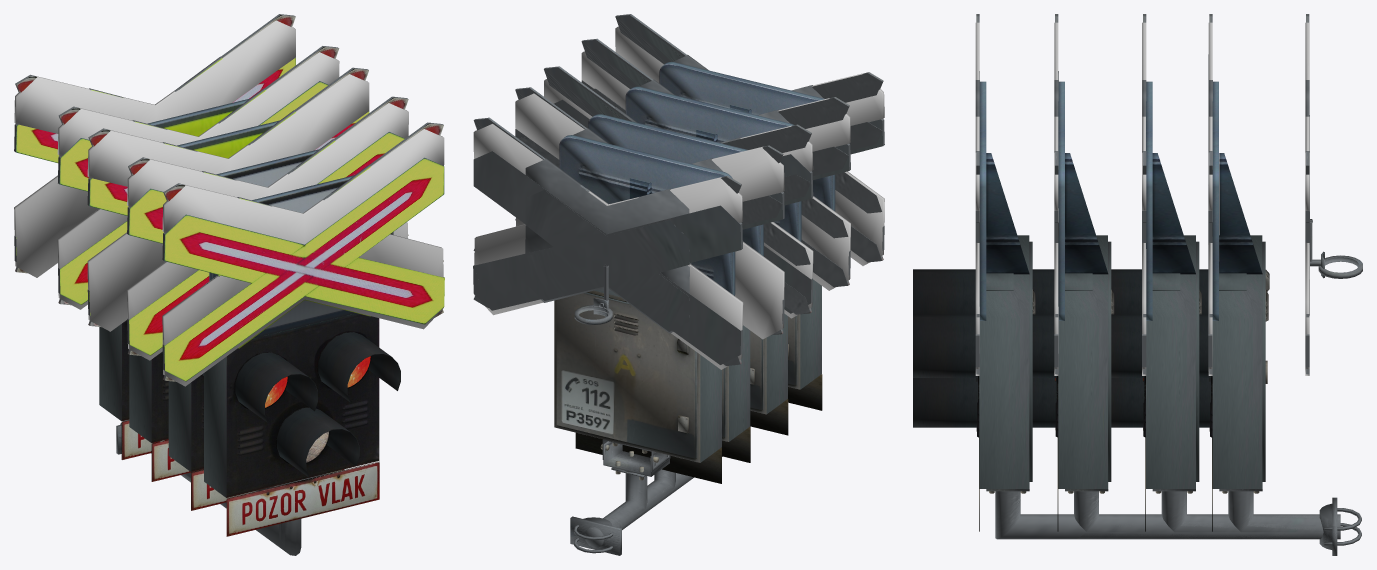
File: azd71_vyst_zav.obj
3 views of the same model, side by side, from view 1: azimuth 30°, elevation 25°; view 2: azimuth 150°, elevation 25°; view 3: azimuth 270°, elevation 25° (orthographic). The views are drawn at different scales.
Visible parts, largest first — view 1: kriz_1k_refl_100_velky, kriz_xk_refl_stozar_velky, kriz_xk_refl_100_velky, azd71_predek_100, kriz_xk_refl_50_velky, kriz_xk_refl_75_velky, kriz_xk_refl_30_velky, azd71_stinidlo_100, azd71_pozor_vlak_100, kriz_1k_refl_75_velky, kriz_1k_refl_30_velky, azd71_stinidlo_poz_100 (+17 smaller); view 2: azd71_skrin_30, kriz_1k_refl_stozar_maly, kriz_1k_refl_stozar_velky, kriz_xk_refl_30_velky, kriz_xk_refl_stozar_velky, kriz_sk_30, kriz_xk_refl_stozar_maly, kriz_sk_75, kriz_xk_back_50_velky, kriz_sk_100, kriz_xk_refl_75_velky, kriz_xk_back_75_velky (+20 smaller); view 3: azd71_skrin_30, azd71_skrin_50, azd71_skrin_75, azd71_skrin_100, azd71_stinidlo_100, azd71_sloup_75, kriz_sk_100, kriz_sk_75, kriz_sk_refl_30, kriz_sk_refl_50, azd71_sloup_100, azd71_stinidlo_50 (+15 smaller).
Part boxes in pixels (x1=…): kriz_1k_refl_100_velky: x1=162, y1=157, x2=444, y2=381; kriz_xk_refl_stozar_velky: x1=14, y1=20, x2=295, y2=277; kriz_xk_refl_100_velky: x1=162, y1=129, x2=444, y2=386; azd71_predek_100: x1=226, y1=313, x2=379, y2=497; kriz_xk_refl_50_velky: x1=87, y1=74, x2=369, y2=331; kriz_xk_refl_75_velky: x1=127, y1=103, x2=408, y2=360; kriz_xk_refl_30_velky: x1=57, y1=52, x2=339, y2=309; azd71_stinidlo_100: x1=235, y1=332, x2=400, y2=422; azd71_pozor_vlak_100: x1=226, y1=461, x2=379, y2=536; kriz_1k_refl_75_velky: x1=127, y1=132, x2=404, y2=355; kriz_1k_refl_30_velky: x1=58, y1=81, x2=328, y2=304; azd71_stinidlo_poz_100: x1=276, y1=407, x2=359, y2=477; azd71_skrin_30: x1=554, y1=288, x2=721, y2=483; kriz_1k_refl_stozar_maly: x1=525, y1=190, x2=691, y2=331; kriz_1k_refl_stozar_velky: x1=473, y1=151, x2=742, y2=364; kriz_xk_refl_30_velky: x1=515, y1=93, x2=784, y2=339; kriz_xk_refl_stozar_velky: x1=473, y1=124, x2=743, y2=369; kriz_sk_30: x1=559, y1=137, x2=735, y2=295; kriz_xk_refl_stozar_maly: x1=525, y1=158, x2=689, y2=333; kriz_sk_75: x1=625, y1=86, x2=801, y2=241; kriz_xk_back_50_velky: x1=544, y1=66, x2=811, y2=314; kriz_sk_100: x1=659, y1=61, x2=835, y2=211; kriz_xk_refl_75_velky: x1=581, y1=51, x2=850, y2=290; kriz_xk_back_75_velky: x1=581, y1=38, x2=849, y2=285; azd71_skrin_30: x1=1212, y1=235, x2=1269, y2=531; azd71_skrin_50: x1=1145, y1=235, x2=1201, y2=531; azd71_skrin_75: x1=1057, y1=235, x2=1114, y2=531; azd71_skrin_100: x1=979, y1=235, x2=1035, y2=531; azd71_stinidlo_100: x1=913, y1=269, x2=977, y2=377; azd71_sloup_75: x1=1074, y1=491, x2=1361, y2=555; kriz_sk_100: x1=979, y1=81, x2=1029, y2=320; kriz_sk_75: x1=1058, y1=81, x2=1108, y2=320; kriz_sk_refl_30: x1=1212, y1=83, x2=1262, y2=320; kriz_sk_refl_50: x1=1146, y1=83, x2=1195, y2=320; azd71_sloup_100: x1=995, y1=491, x2=1340, y2=539; azd71_stinidlo_50: x1=1111, y1=269, x2=1144, y2=377.
Bounding box in the file's own units: 0.6555 × 0.9186 × 0.8176.
